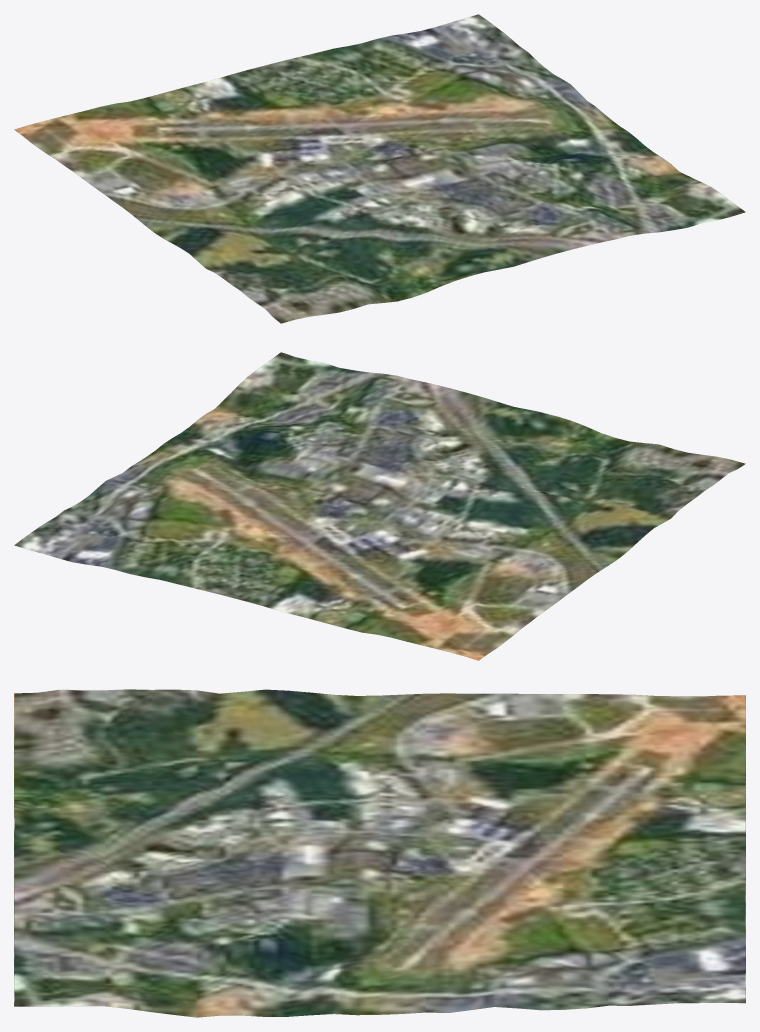
The picture shows the model from 3 angles, top to bottom: view 1: azimuth 30°, elevation 25°; view 2: azimuth 150°, elevation 25°; view 3: azimuth 270°, elevation 25°; orthographic projection. The views are drawn at different scales.
Bounding box in the file's own units: 1951 × 58.98 × 1943.
1 material, 1 textured.
